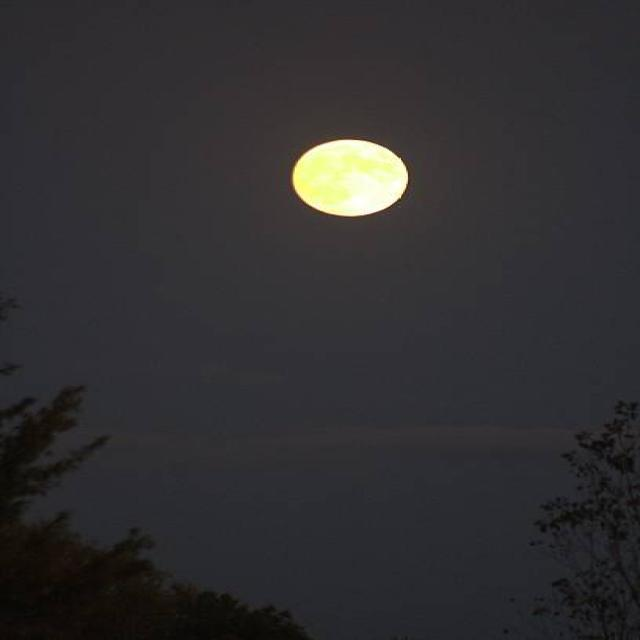moon: (296, 140, 408, 218)
